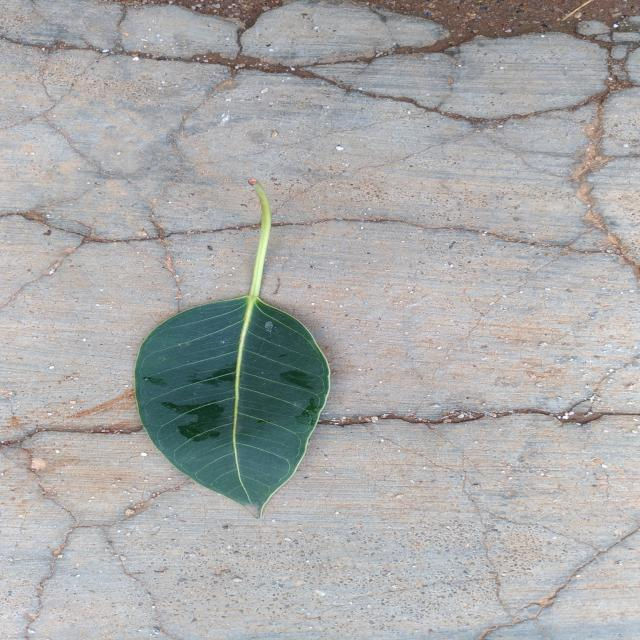defected camphor: (136, 179, 329, 516)
